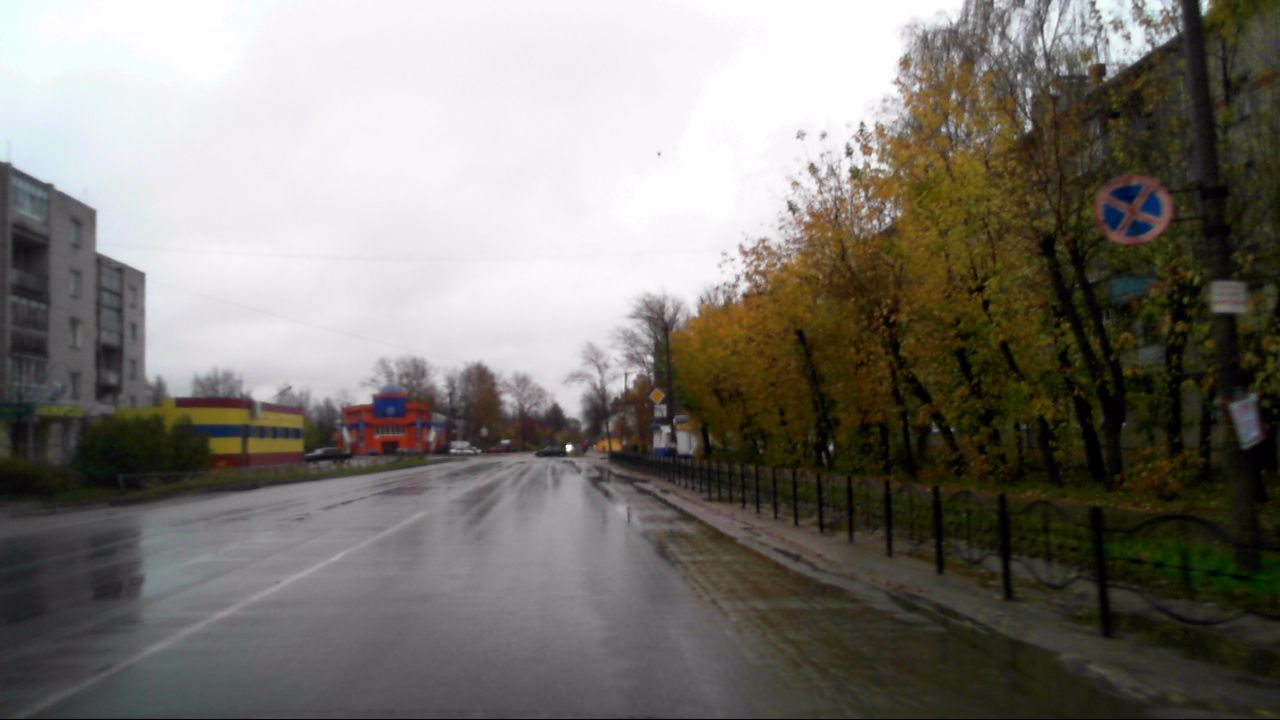No Parking: (1092, 173, 1173, 243)
